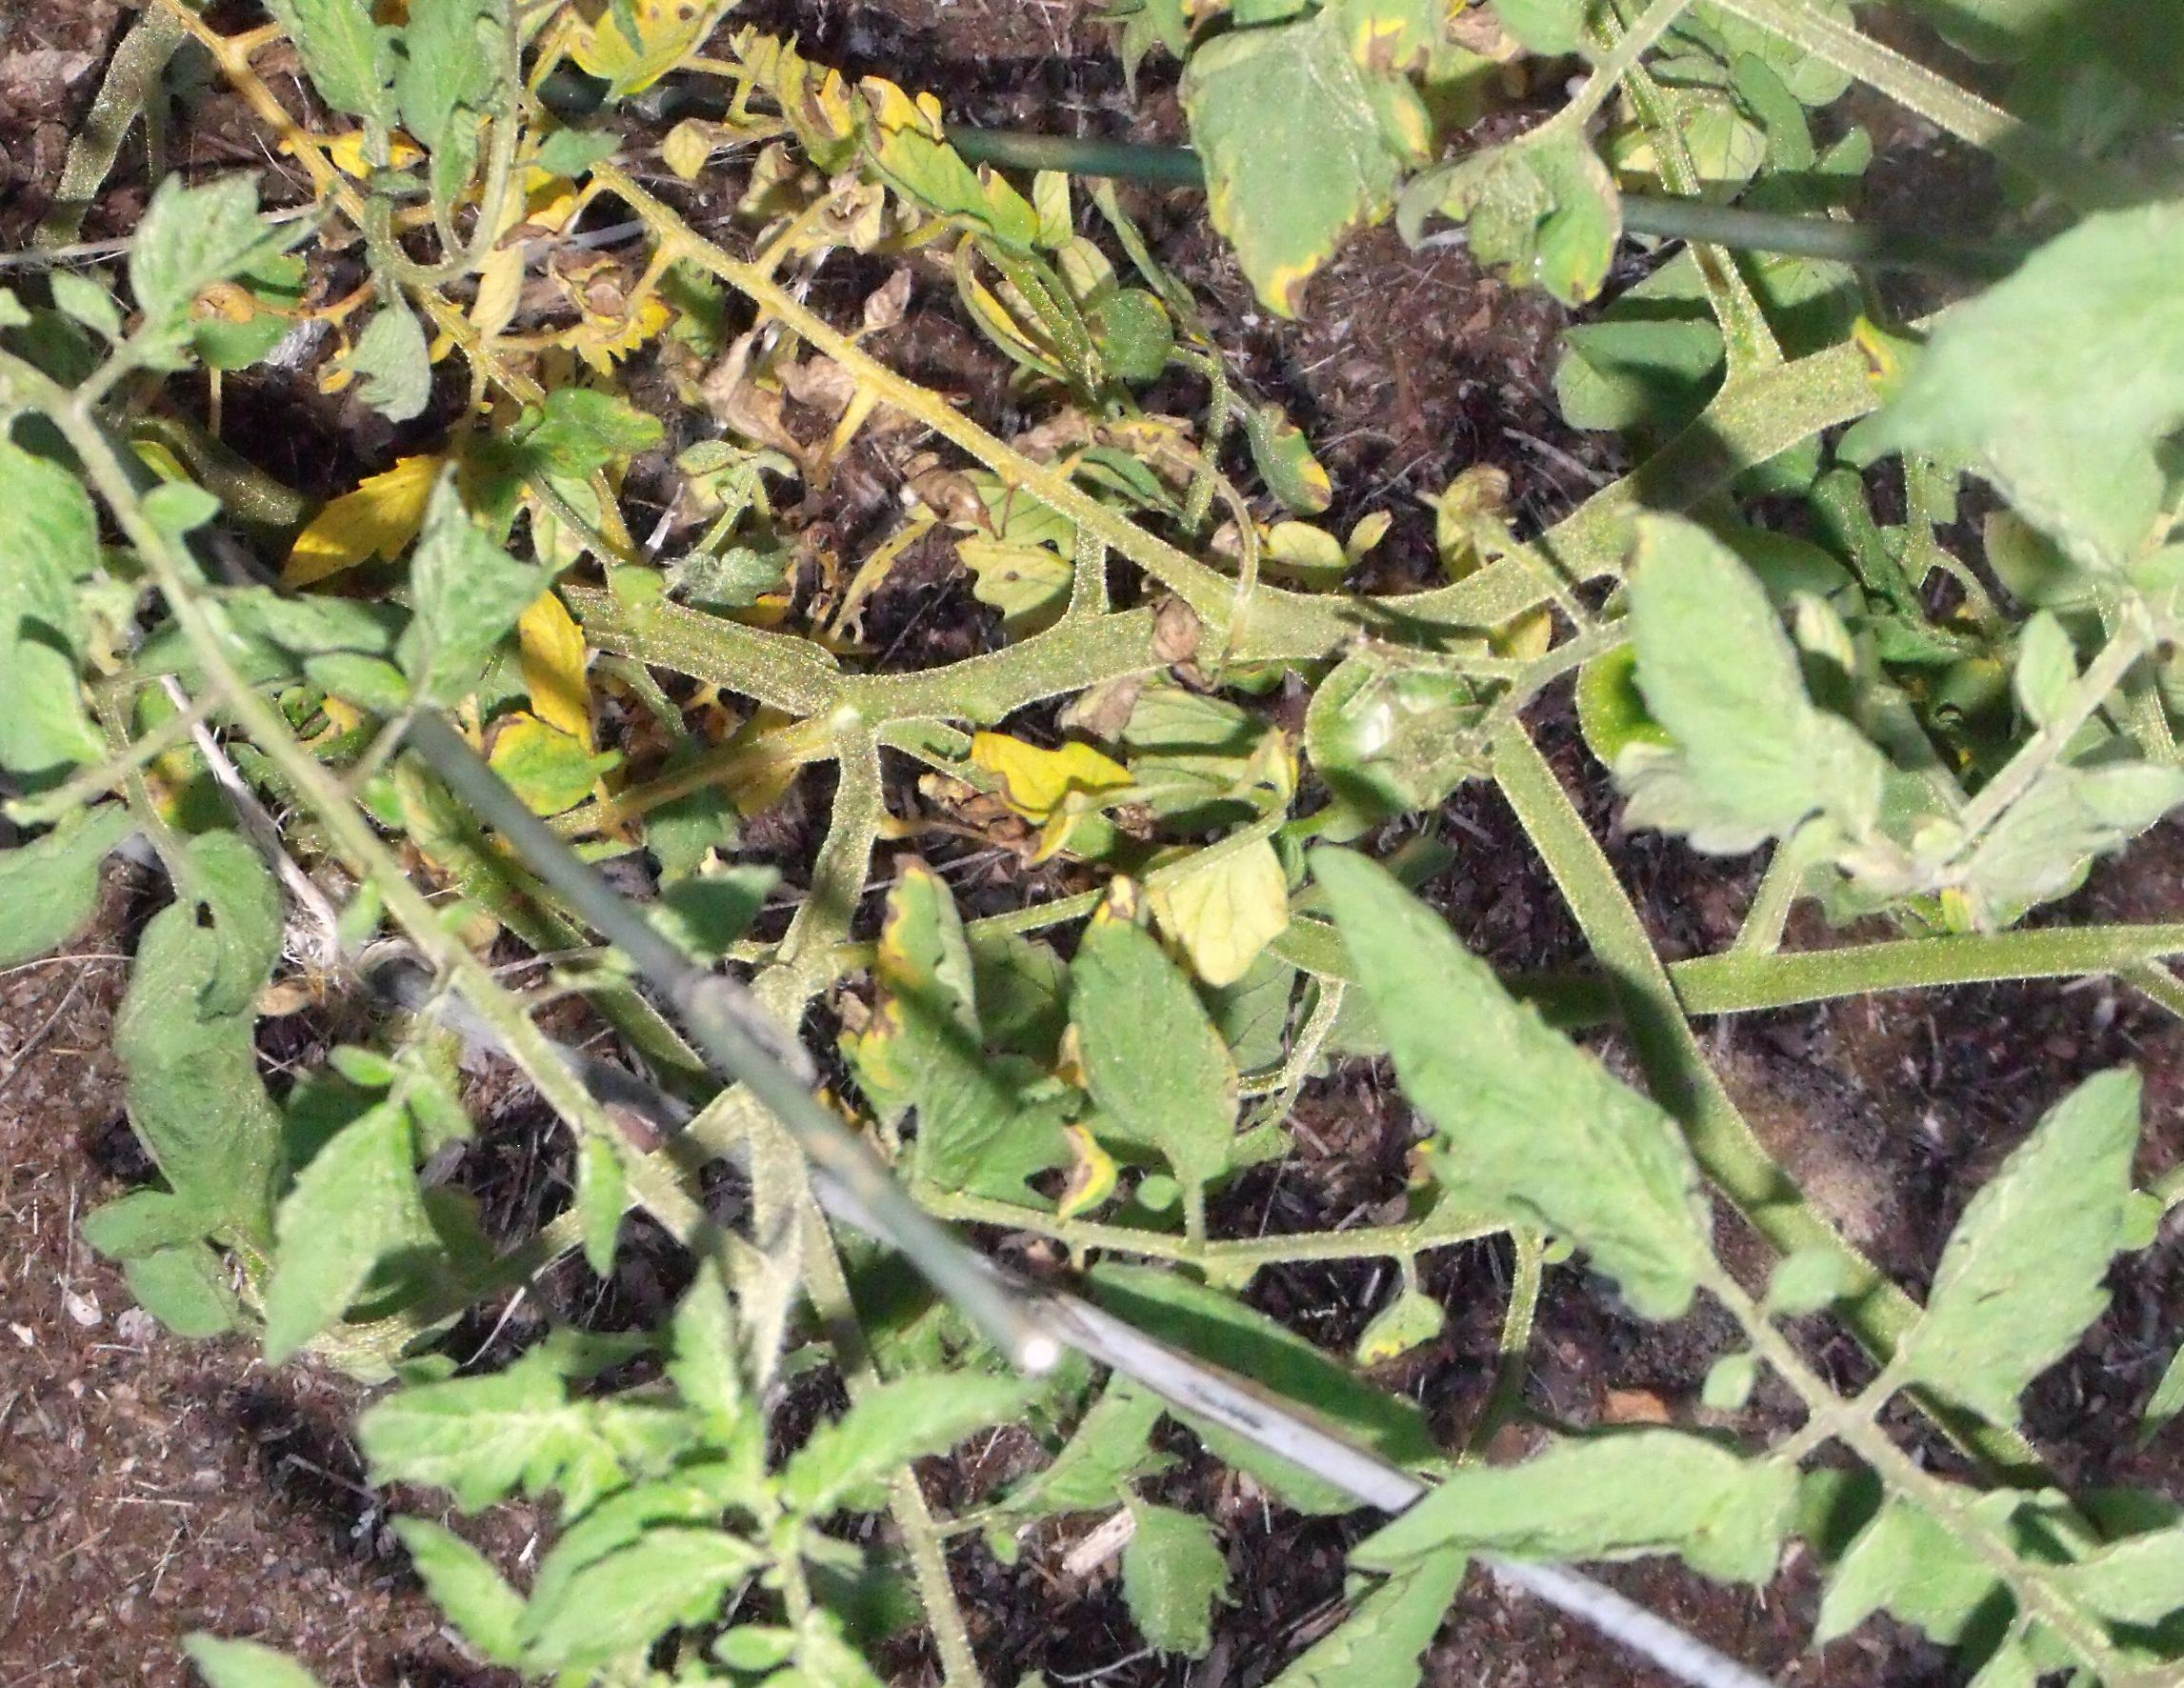Tomato leaf bacterial spot: (1333, 839, 1744, 1328), (1321, 1401, 1835, 1622), (1925, 1046, 2184, 1472), (1606, 491, 1879, 894), (796, 839, 1065, 1213), (1143, 0, 1454, 312), (328, 1332, 776, 1546), (204, 1046, 511, 1356), (1010, 860, 1252, 1199), (1425, 57, 1627, 374), (0, 752, 183, 1004), (199, 0, 424, 202)
